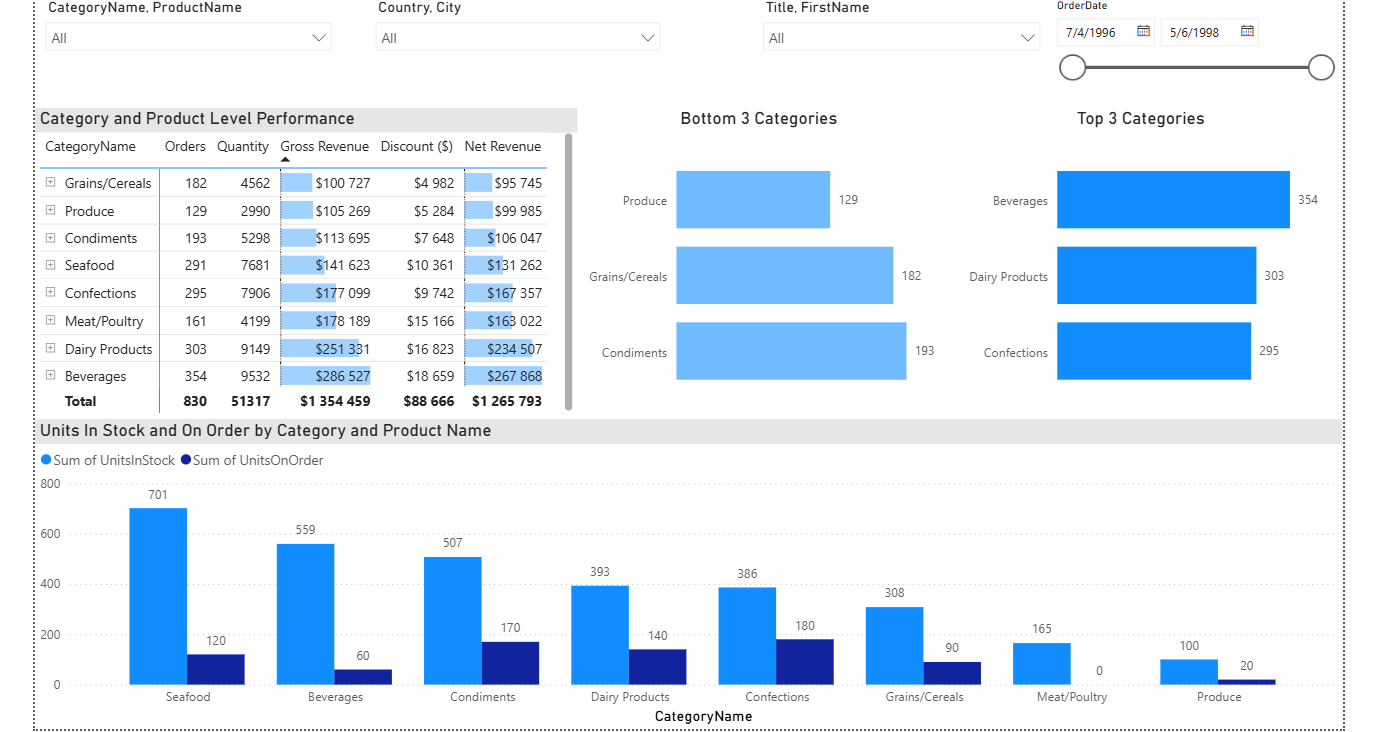

The dashboard page shown, as its layout file describes it:
{"tool":"powerbi","page":{"name":"Dashboard 2","canvas":[1280,720],"ordinal":1},"visuals":[{"type":"slicer","fields":{"Values":["Order_Details.Order.Employee.Title","Order_Details.Order.Employee.FirstName"]},"box":[701.8,0,291.9,61.4],"z":0},{"type":"slicer","fields":{"Values":["Order_Details.Order.OrderDate"]},"box":[986.9,0,292.8,87.8],"z":1000},{"type":"slicer","fields":{"Values":["Categories.CategoryName","Categories.Products.ProductName"]},"box":[0,0,300,60.9],"z":2000},{"type":"slicer","fields":{"Values":["Order_Details.Order.Customer.Country","Order_Details.Order.Customer.City"]},"box":[323.3,0,299.1,61.8],"z":3000},{"type":"pivotTable","title":"Category and Product Level Performance","fields":{"Rows":["Categories.CategoryName","Categories.Products.ProductName"],"Values":["Order_Details.Orders","Sum(Order_Details.Quantity)","Sum(Order_Details.Gross Revenue)","Sum(Order_Details.Discount ($))","Sum(Order_Details.Net Revenue)"]},"box":[0,112.5,531.2,303.8],"z":4000},{"type":"clusteredBarChart","title":"Bottom 3 Categories","fields":{"Y":["Order_Details.Orders"],"Category":["Categories.CategoryName"]},"box":[531.2,112.5,355,303.8],"z":6000},{"type":"clusteredBarChart","title":"Top 3 Categories","fields":{"Category":["Categories.CategoryName"],"Y":["Order_Details.Orders"]},"box":[901.2,112.5,361.2,303.8],"z":7000},{"type":"clusteredColumnChart","title":"Units In Stock and On Order by Category and Product Name","fields":{"Y":["Sum(Categories.Products.UnitsInStock)","Sum(Categories.Products.UnitsOnOrder)"],"Category":["Categories.CategoryName","Categories.Products.ProductName"]},"box":[0,416.7,1279,303.3],"z":8000}]}

Visuals, with their boxes on the page's 1280x720 design canvas (x1, y1, x2, y2). These are canvas units, not pixel positions in the 1396x732 screenshot, which may show the page scaled, cropped or inside an application window:
slicer - Order_Details.Order.Employee.Title x Order_Details.Order.Employee.FirstName: (left=702, top=0, right=994, bottom=61)
slicer - Order_Details.Order.OrderDate: (left=987, top=0, right=1280, bottom=88)
slicer - Categories.CategoryName x Categories.Products.ProductName: (left=0, top=0, right=300, bottom=61)
slicer - Order_Details.Order.Customer.Country x Order_Details.Order.Customer.City: (left=323, top=0, right=622, bottom=62)
"Category and Product Level Performance" pivotTable: (left=0, top=112, right=531, bottom=416)
"Bottom 3 Categories" clusteredBarChart: (left=531, top=112, right=886, bottom=416)
"Top 3 Categories" clusteredBarChart: (left=901, top=112, right=1262, bottom=416)
"Units In Stock and On Order by Category and Product Name" clusteredColumnChart: (left=0, top=417, right=1279, bottom=720)
